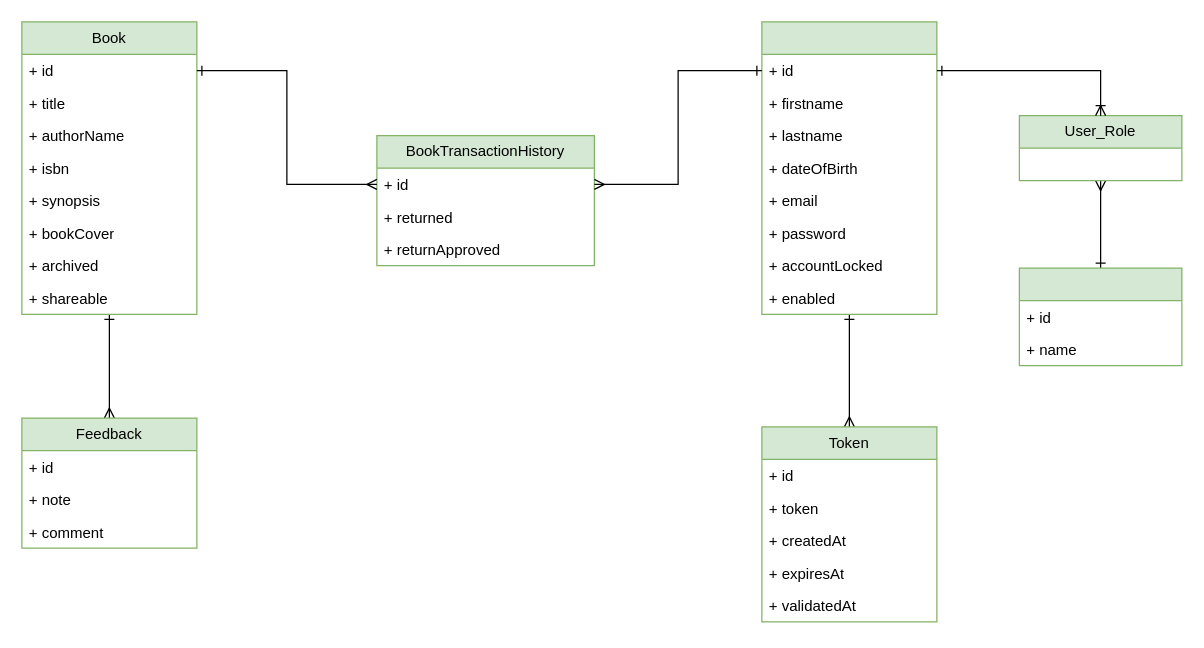
Image size: 1204x648. Some labels were removed from this diagram. The box of each missing label's shape, as (x1, y1, x2, y2) in pixels:
Role: (1018, 267, 1182, 366)
User: (761, 21, 937, 314)
